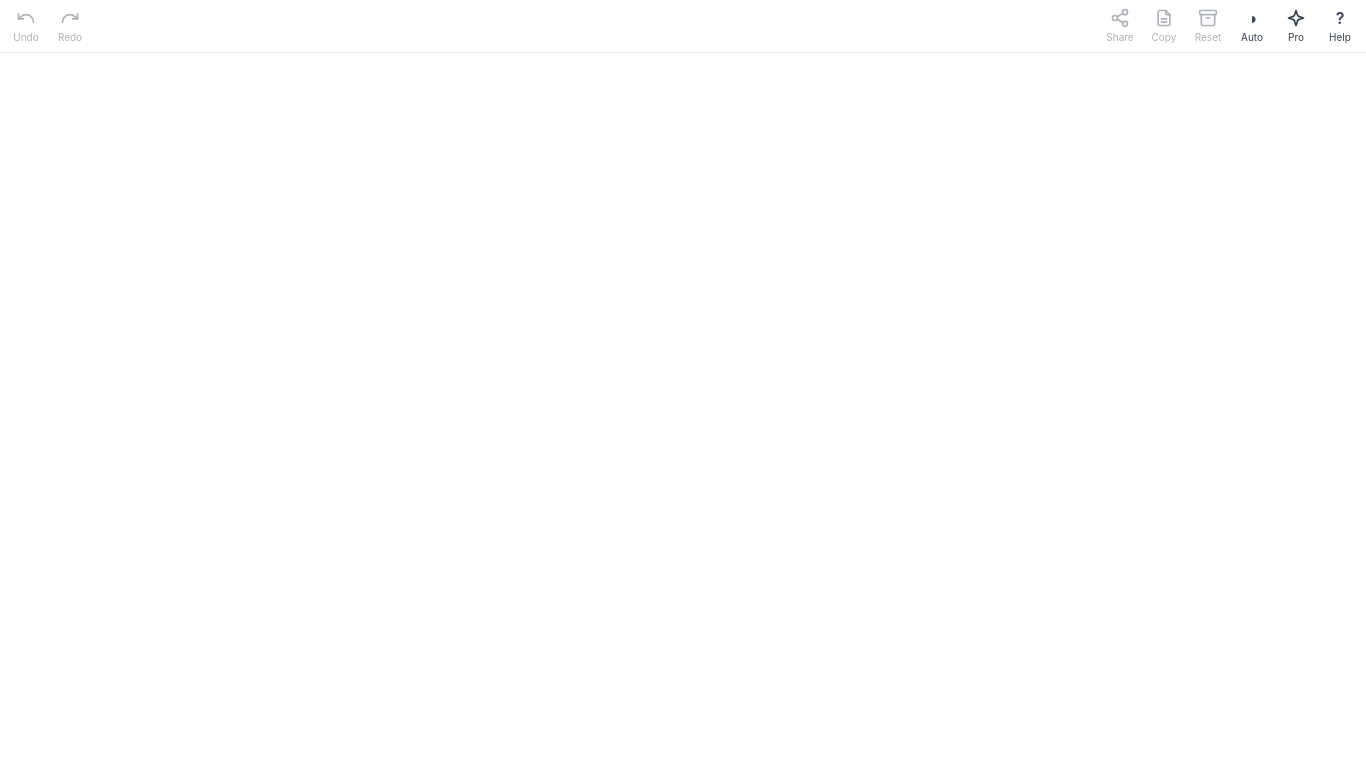
Test: MobileToolbar › theme toggle cycles themes
Click the button with aria-label "theme" at (1252, 26), box [1230, 4, 1274, 48]
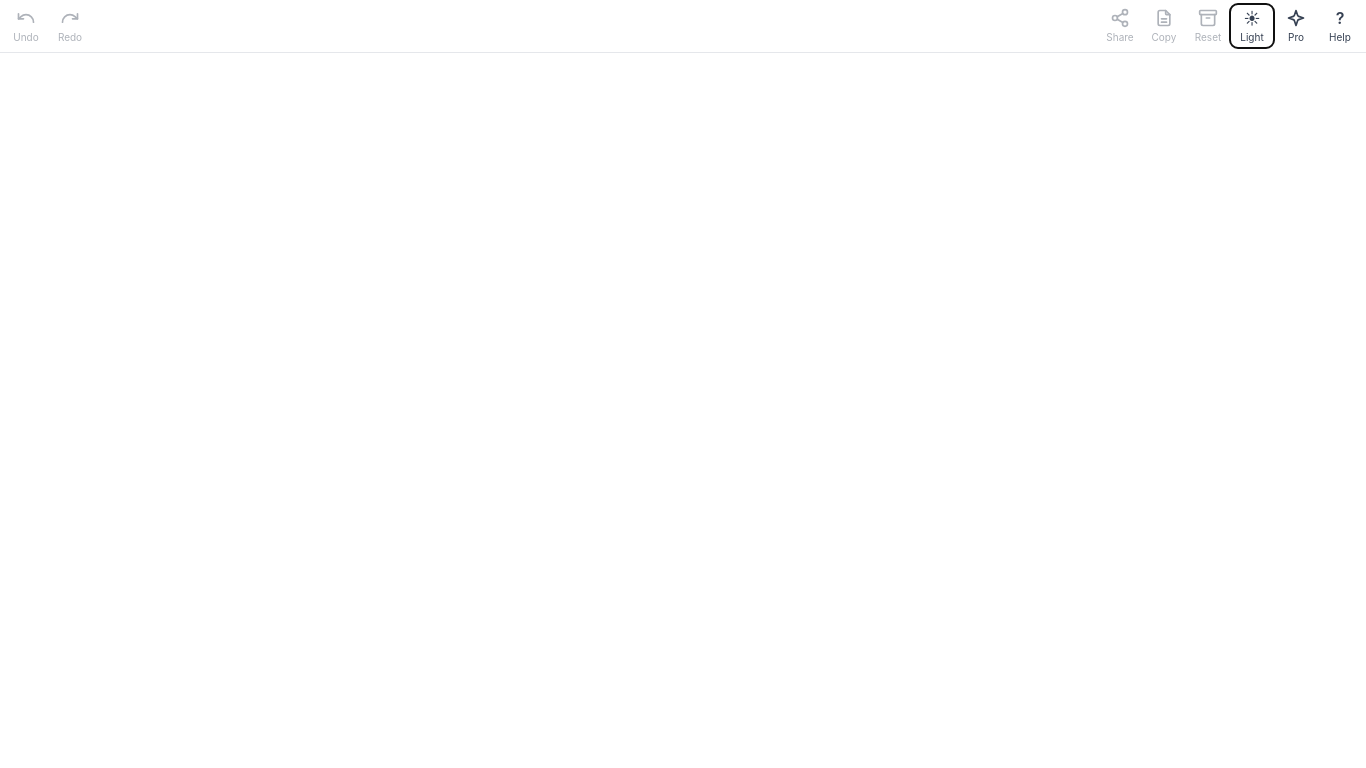
Result: the button with aria-label "Theme: light" is shown
Click the button with aria-label "Theme: light" at (1252, 26), box [1230, 4, 1274, 48]
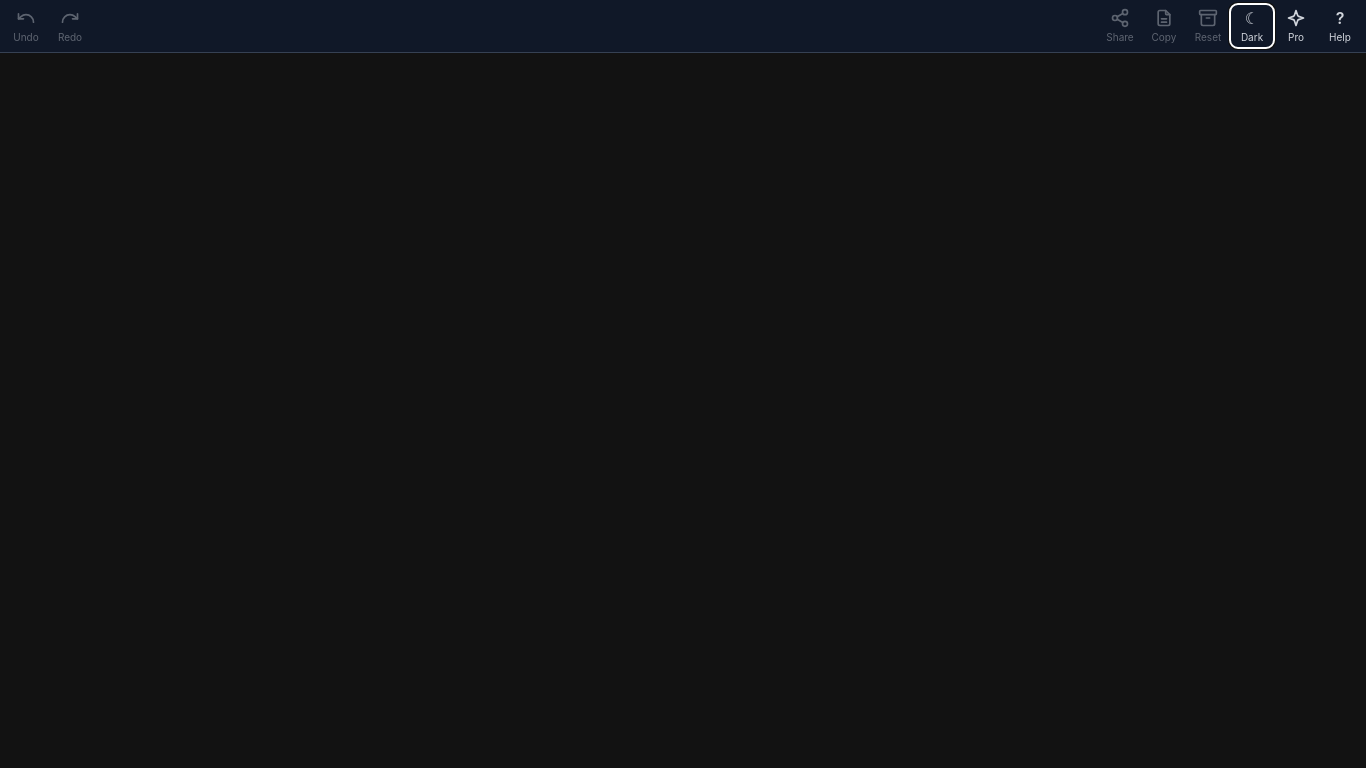
Result: the button with aria-label "Theme: dark" is shown at [1230, 4, 1274, 48]
